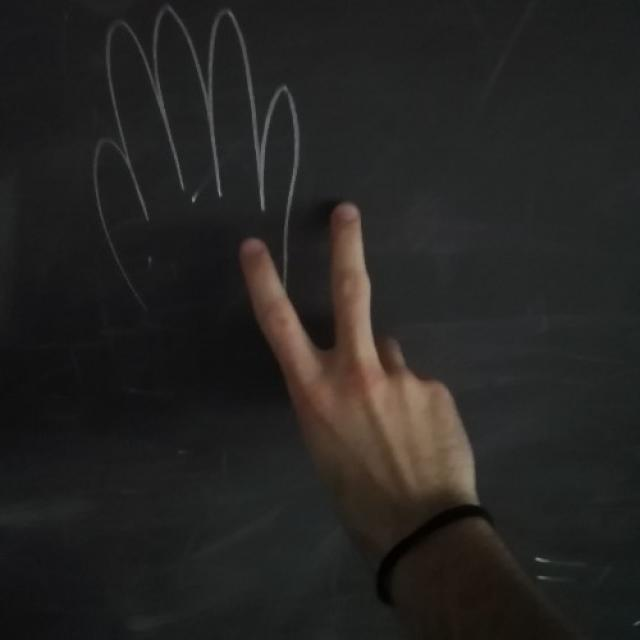scissors: (244, 205, 478, 497)
